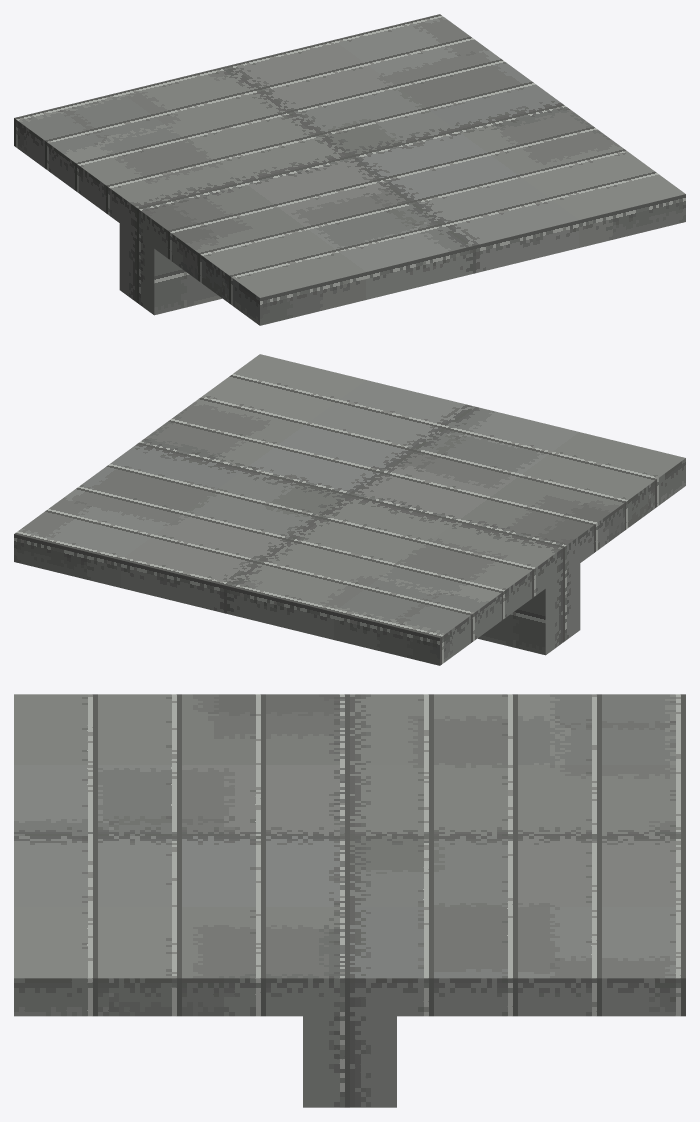
Rendered from arch_ceiling_beam.glb.
3 views of the same model, one above another, from view 1: azimuth 30°, elevation 25°; view 2: azimuth 150°, elevation 25°; view 3: azimuth 270°, elevation 25° (orthographic). The views are drawn at different scales.
Visible parts, largest first — view 1: ceiling_beam; view 2: ceiling_beam; view 3: ceiling_beam.
Boxes of the visible parts, x1,y1,x2,y2 form: ceiling_beam: (14,14,685,325); ceiling_beam: (14,354,685,665); ceiling_beam: (14,694,685,1107).
Size of the model in its own units: 4 by 0.85 by 4.
Materials: 1 (1 with a texture image).
